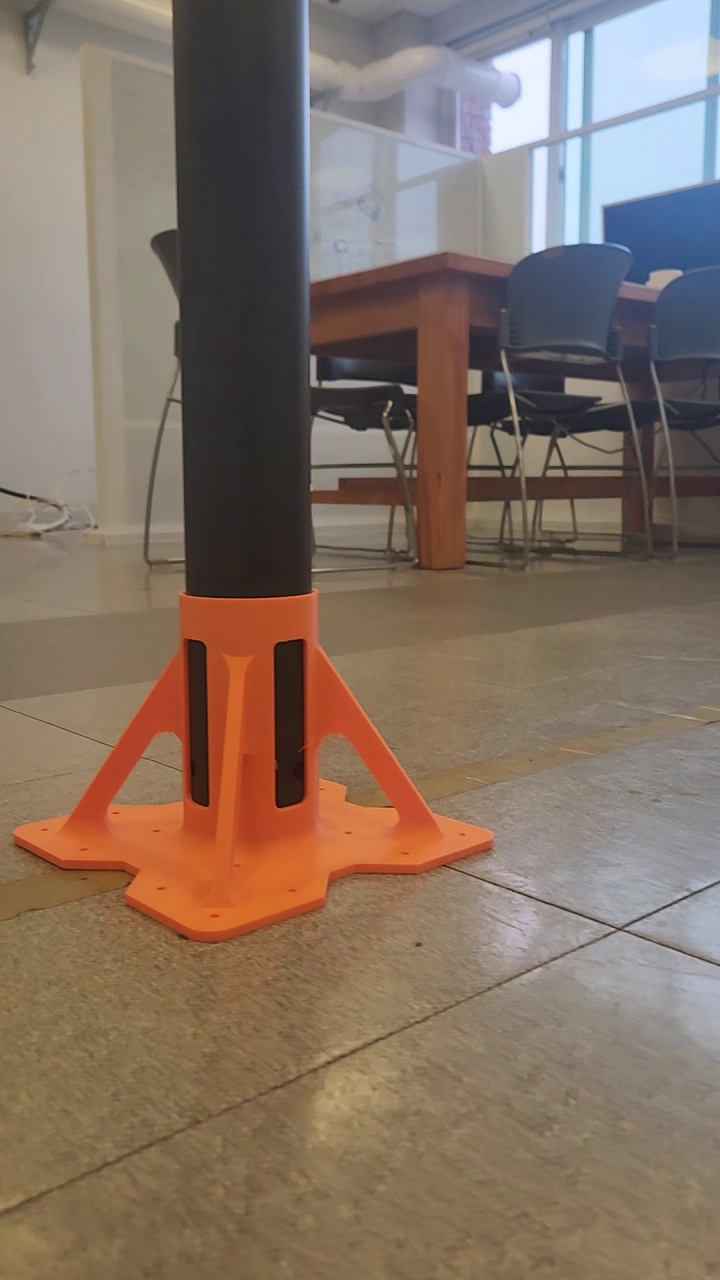pole: (168, 2, 316, 595)
